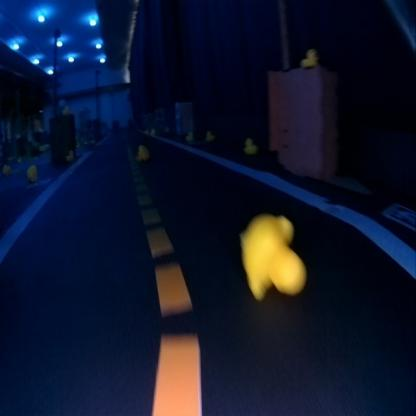Duckie: (239, 213, 304, 298), (300, 48, 318, 66), (135, 144, 148, 161), (244, 136, 256, 153), (26, 164, 36, 178), (185, 130, 192, 140), (206, 130, 213, 138), (66, 150, 72, 159)
QR code: (383, 202, 413, 231)
